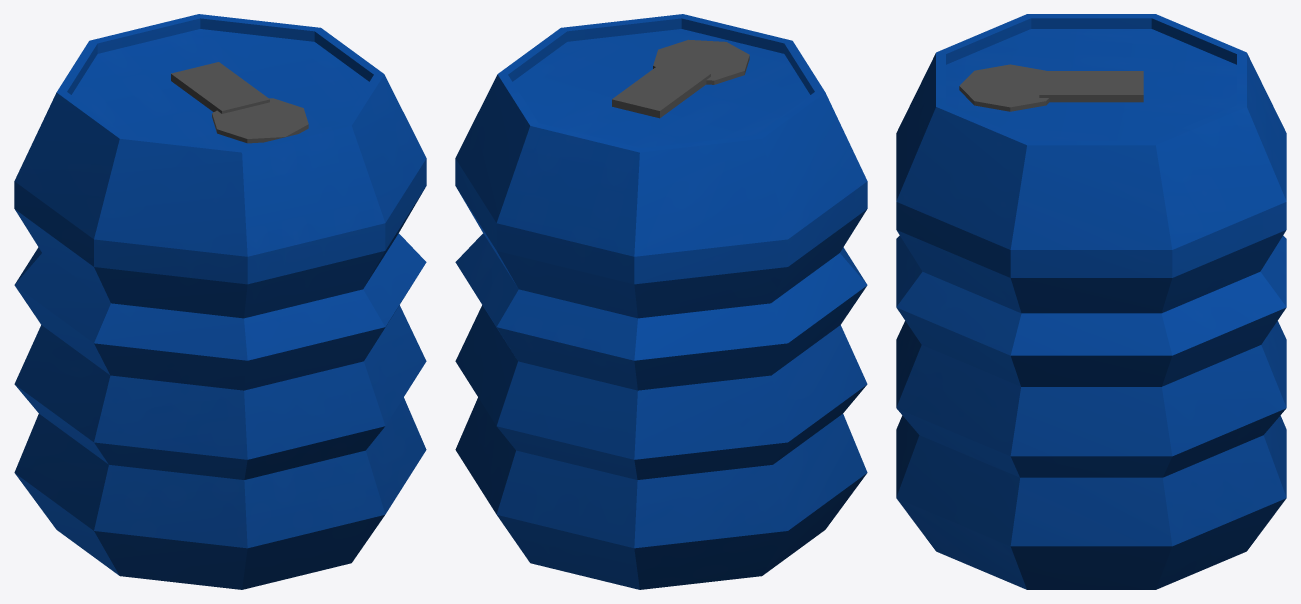
File: Bottle_blue_2.fbx
3 views of the same model, side by side, from view 1: azimuth 30°, elevation 25°; view 2: azimuth 150°, elevation 25°; view 3: azimuth 270°, elevation 25° (orthographic).
Visible parts, largest first — view 1: Bottle_blue_wrinkled; view 2: Bottle_blue_wrinkled; view 3: Bottle_blue_wrinkled.
Boxes of the visible parts, x1,y1,x2,y2 form: Bottle_blue_wrinkled: (14, 14, 426, 589); Bottle_blue_wrinkled: (455, 14, 867, 589); Bottle_blue_wrinkled: (896, 14, 1286, 589).
Size of the model in its own units: 5.15 by 6.47 by 5.15.
